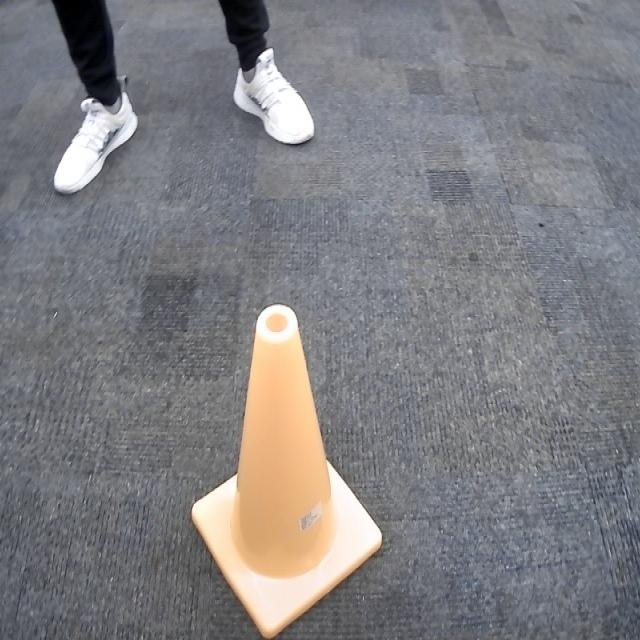cone: (189, 298, 385, 636)
